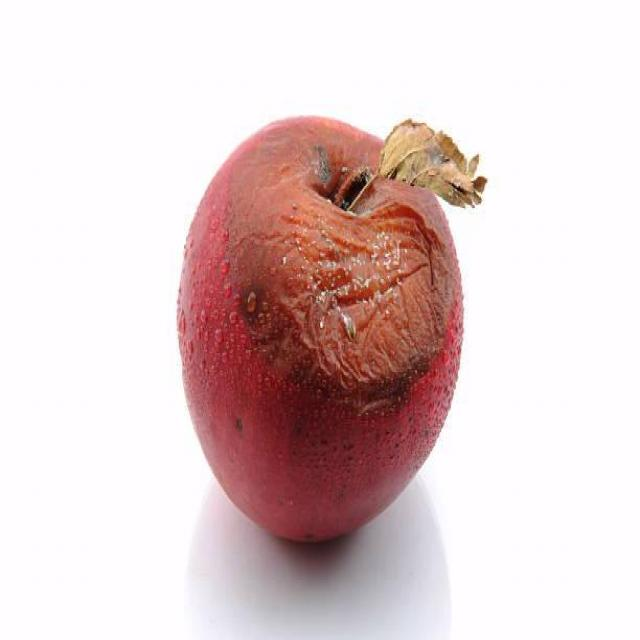Rotten: (167, 111, 459, 548)
